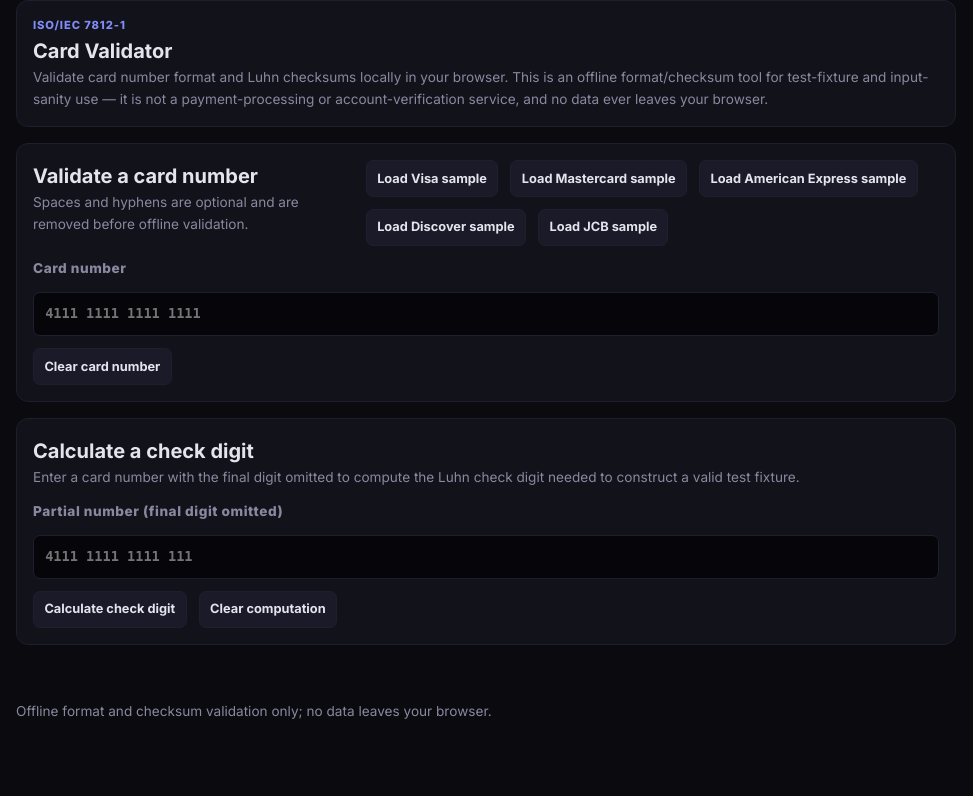
Test: CardTool › shows a wired alert for a checksum failure and clears it
Type "4111111111111112" into the field labelled "Card number". click: (486, 314)
box: top-left (33, 292), bottom-right (939, 336)
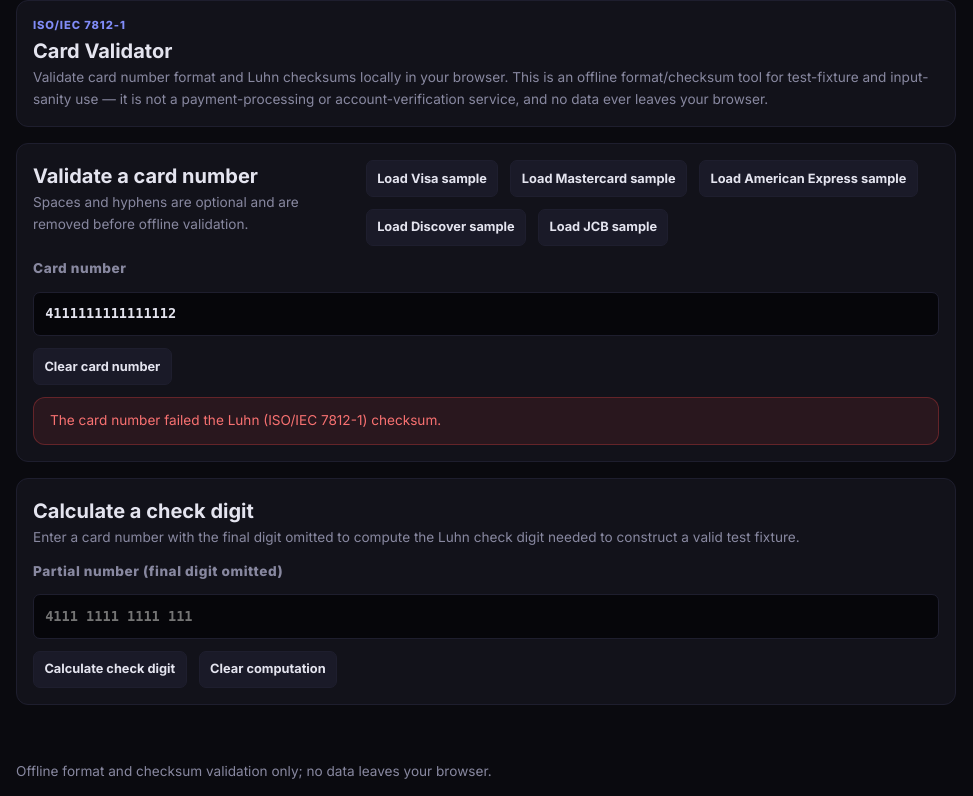
Check: the message "The card number failed the Luhn (ISO/IEC 7812-1) checksum." is shown, box top-left (33, 397), bottom-right (939, 445)
Click the button "Clear card number". click: (102, 367)
box: top-left (33, 348), bottom-right (172, 385)
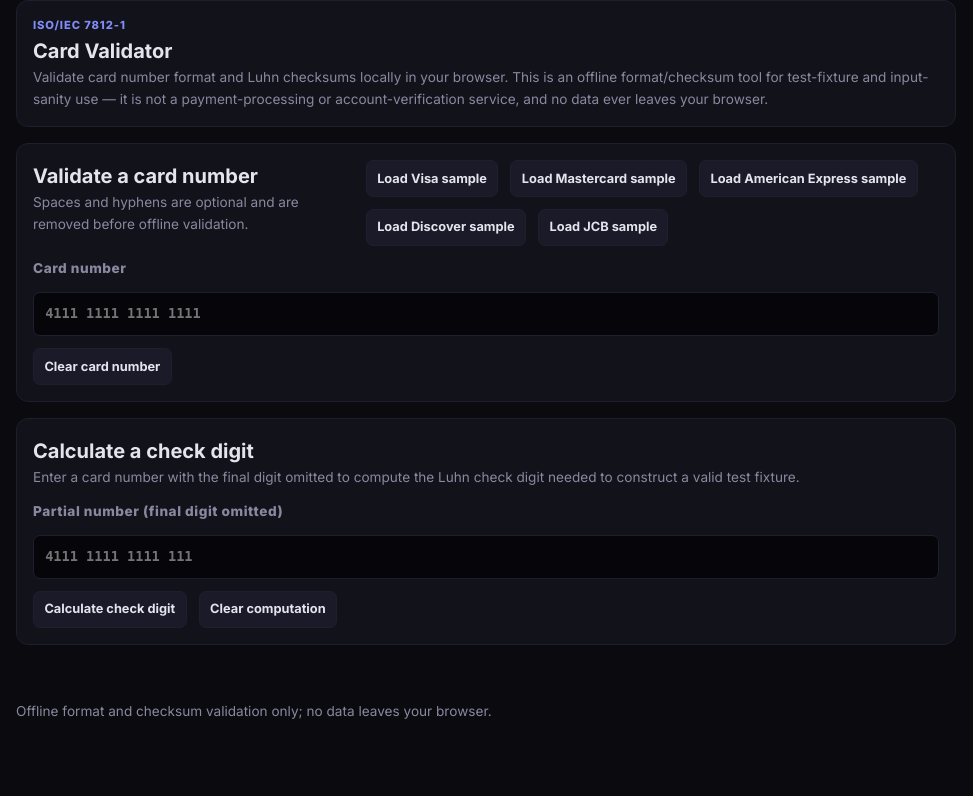
Check: the field labelled "Card number" is empty, box top-left (33, 292), bottom-right (939, 336)
Check: the message "The card number failed the Luhn (ISO/IEC 7812-1) checksum." is gone
